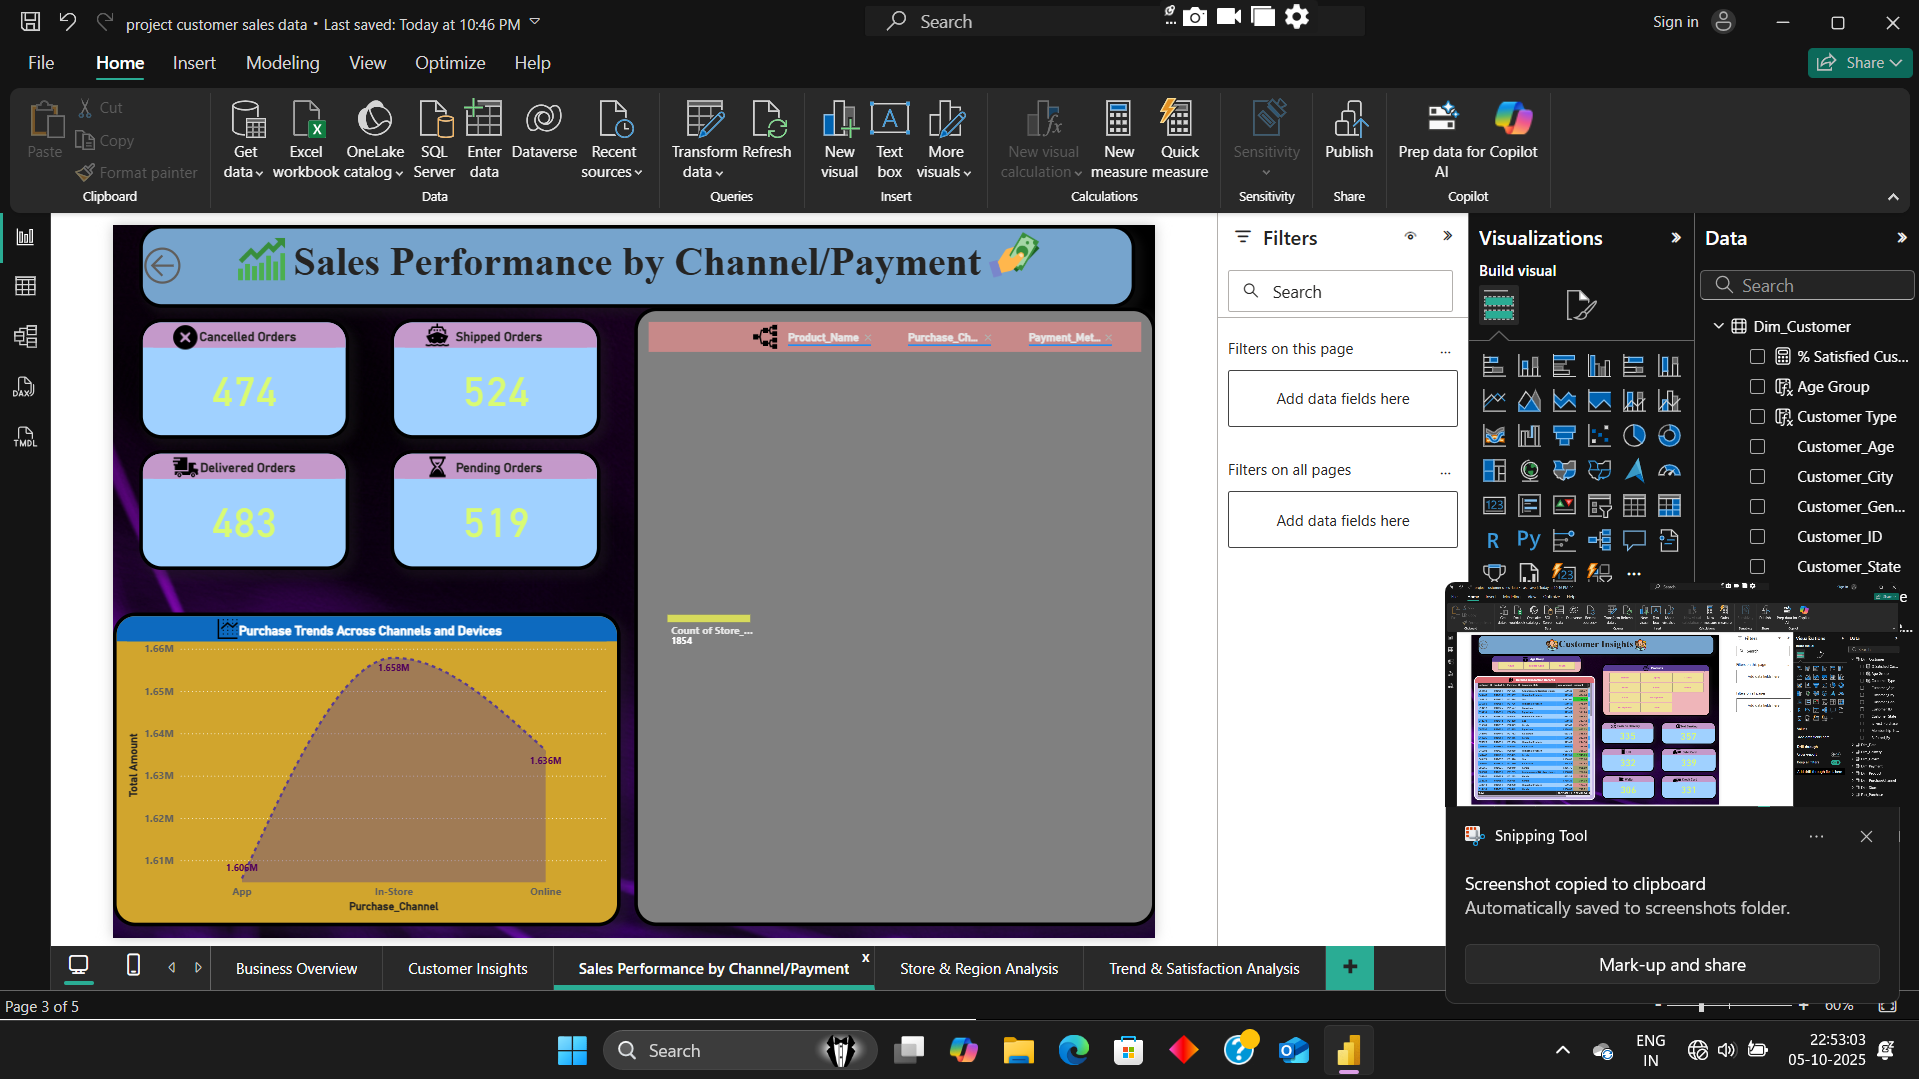

Layout of this report page (visuals, bound fields, positions):
{"tool":"powerbi","page":{"name":"Sales Performance by  Channel/Payment","canvas":[1390,950],"ordinal":2},"visuals":[{"type":"textbox","box":[35,0,1328.3,110],"z":0},{"type":"decompositionTreeVisual","fields":{"ExplainBy":["Dim_Product.Product_Name","Dim_PurchaseChannel.Purchase_Channel","Dim_Payment.Payment_Method"],"Analyze":["CountNonNull(Dim_Store.Store_Location)"]},"box":[695,110,695,825],"z":1000},{"type":"card","title":"Cancelled Orders","fields":{"Values":["Dim_Delivery.Cancelled Orders"]},"box":[35,125,280,160],"z":2000},{"type":"card","title":"Delivered Orders","fields":{"Values":["Dim_Delivery.Delivered Orders"]},"box":[35,300,280,160],"z":3000},{"type":"card","title":"Pending Orders","fields":{"Values":["Dim_Delivery.Pending Orders"]},"box":[370,300,280,160],"z":4000},{"type":"card","title":"Shipped Orders","fields":{"Values":["Dim_Delivery.Shipped Orders"]},"box":[370,125,280,160],"z":5000},{"type":"areaChart","title":"Purchase Trends Across Channels and Devices","fields":{"Category":["Dim_PurchaseChannel.Purchase_Channel","Dim_Device.Device_Type"],"Y":["Sum(Fact_Purchase.Final_Amount)"]},"box":[0,516.7,676.7,418.3],"z":6000},{"type":"actionButton","box":[35,23.3,61.7,61.7],"z":7000},{"type":"image","box":[71.7,125,50,50],"z":8000},{"type":"image","box":[410,125,45,45],"z":9000},{"type":"image","box":[75,300,45,45],"z":10000},{"type":"image","box":[410,300,45,45],"z":11000},{"type":"image","box":[131.7,516.7,43.3,43.3],"z":12000},{"type":"image","box":[838.3,128.3,61.7,41.7],"z":13000},{"type":"image","box":[153.3,0,90,85],"z":14000},{"type":"image","box":[1161.7,0,80,81.7],"z":15000}]}

Visuals, with their boxes on the page's 1390x950 design canvas (x1, y1, x2, y2). These are canvas units, not pixel positions in the 1919x1079 screenshot, which may show the page scaled, cropped or inside an application window:
textbox: 35, 0, 1363, 110
decompositionTreeVisual - Dim_Product.Product_Name x Dim_PurchaseChannel.Purchase_Channel: 695, 110, 1390, 935
"Cancelled Orders" card: 35, 125, 315, 285
"Delivered Orders" card: 35, 300, 315, 460
"Pending Orders" card: 370, 300, 650, 460
"Shipped Orders" card: 370, 125, 650, 285
"Purchase Trends Across Channels and Devices" areaChart: 0, 517, 677, 935
actionButton: 35, 23, 97, 85
image: 72, 125, 122, 175
image: 410, 125, 455, 170
image: 75, 300, 120, 345
image: 410, 300, 455, 345
image: 132, 517, 175, 560
image: 838, 128, 900, 170
image: 153, 0, 243, 85
image: 1162, 0, 1242, 82
